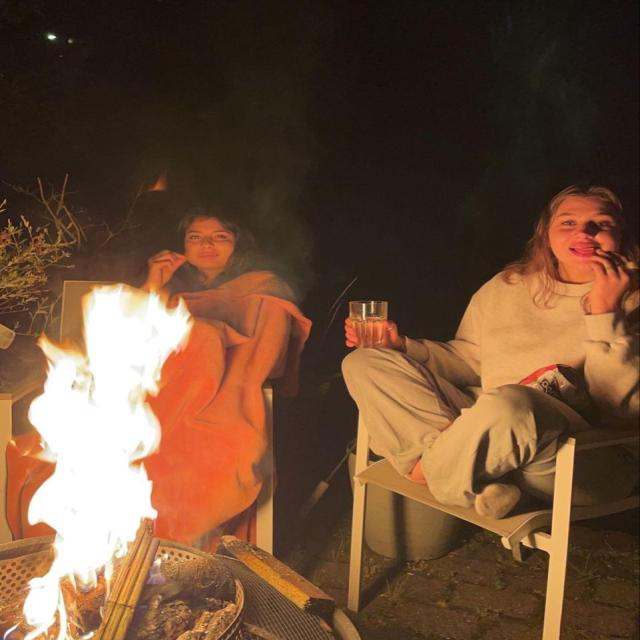fire: (23, 290, 176, 638)
